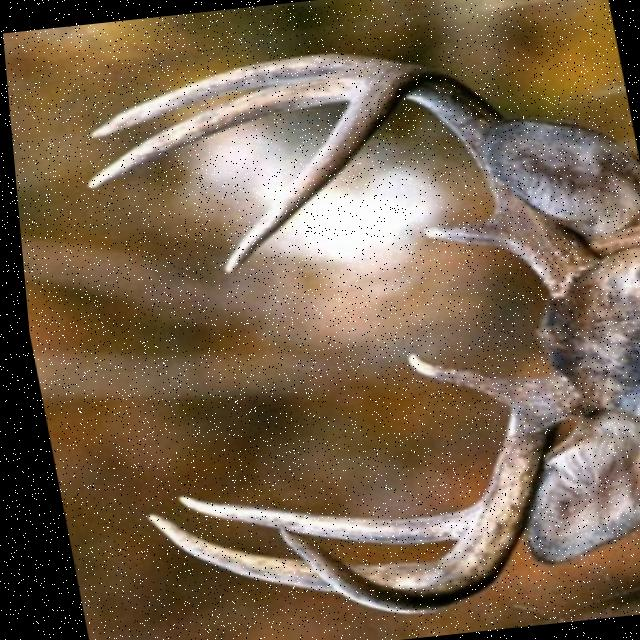L-F: (218, 59, 598, 297)
L-G1: (417, 219, 503, 246)
L-G2: (85, 51, 380, 137)
L-G3: (81, 71, 365, 188)
R-F: (268, 372, 575, 613)
R-G1: (400, 350, 527, 406)
R-G2: (166, 493, 468, 543)
